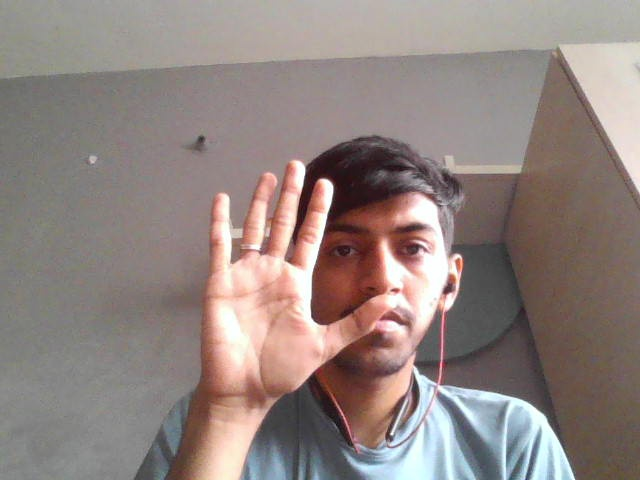Hello: (195, 154, 397, 392)
